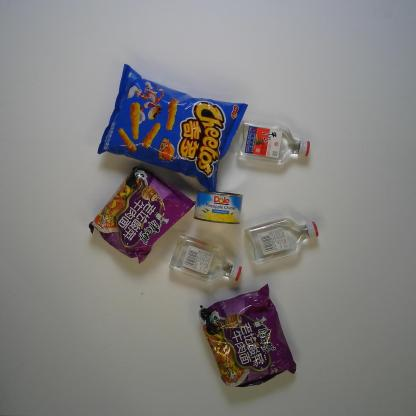Alcohol: (166, 233, 244, 285), (244, 216, 321, 267), (236, 120, 310, 164)
Canned Food: (193, 189, 245, 227)
Instant Noodles: (196, 280, 298, 390), (87, 165, 196, 265)
Puffed Food: (96, 64, 248, 195)
